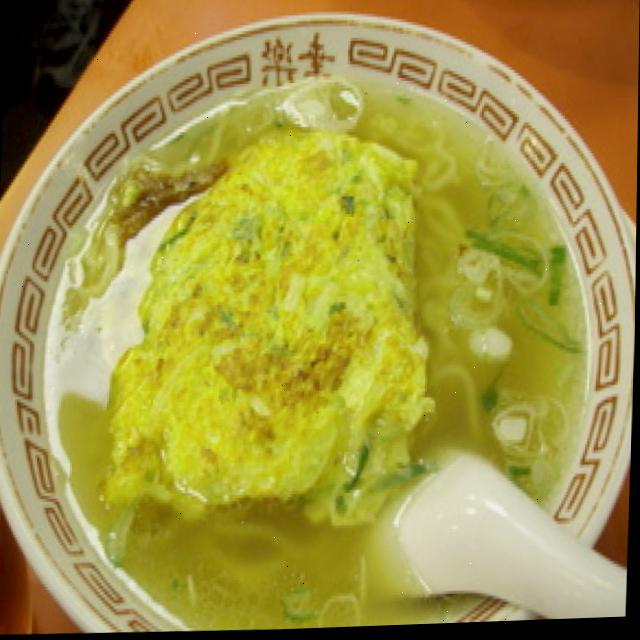面条主食: (31, 80, 620, 639)
